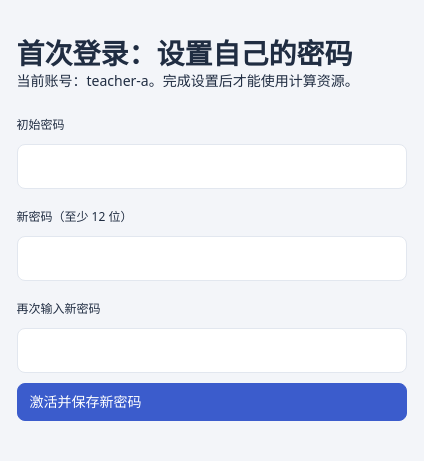
Test case: requires a different matching password before activating the account
In the password field labelled "初始密码": point(212, 166) [16,144,406,189], type "initial-password"
In the password field labelled "新密码（至少 12 位）": point(212, 259) [16,236,406,281], type "initial-password"
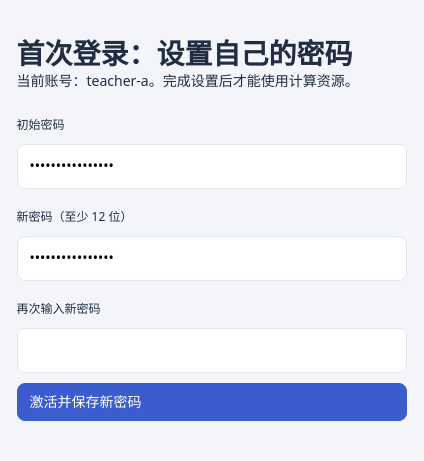
In the password field labelled "再次输入新密码": point(212, 351) [16,328,406,373], type "initial-password"
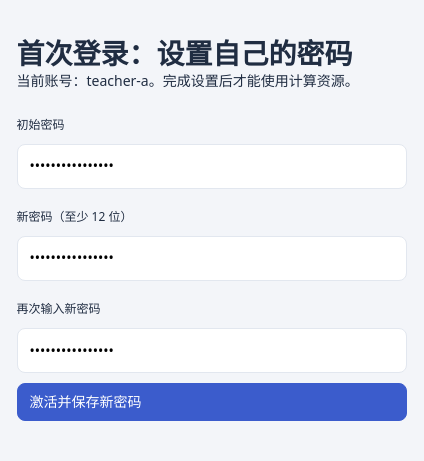
Click the button "激活并保存新密码": point(86, 402) [16,383,406,421]
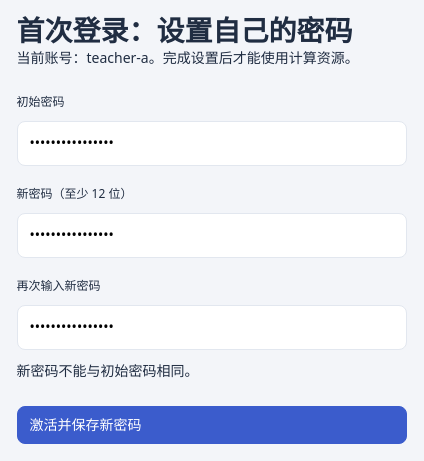
Check: the message shows "新密码不能与初始密码相同", box [16,361,198,380]
In the password field labelled "新密码（至少 12 位）": point(212, 235) [16,213,406,258], type "my-new-password"
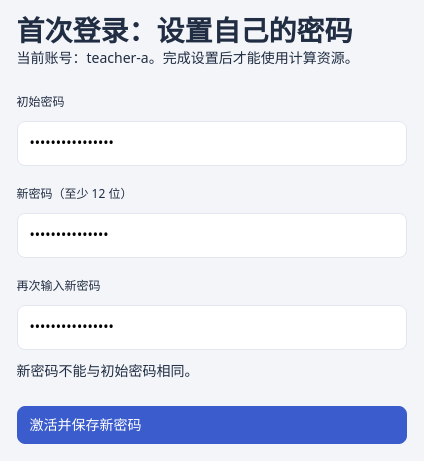
In the password field labelled "再次输入新密码": point(212, 328) [16,305,406,350], type "my-new-password"
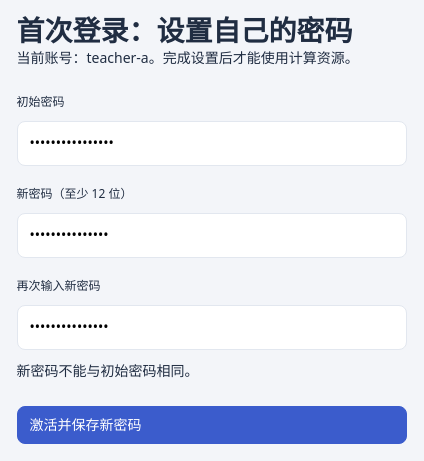
Click the button "激活并保存新密码": point(86, 425) [16,406,406,444]
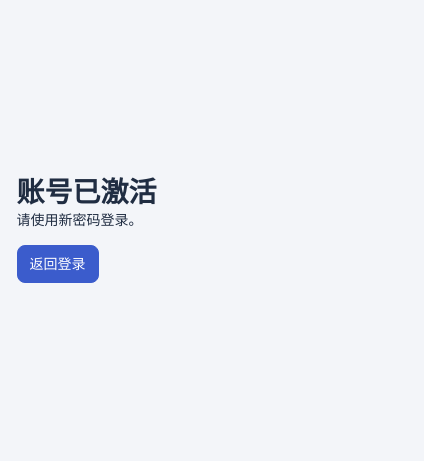
Check: the heading "账号已激活" is shown, box [16,172,156,210]
